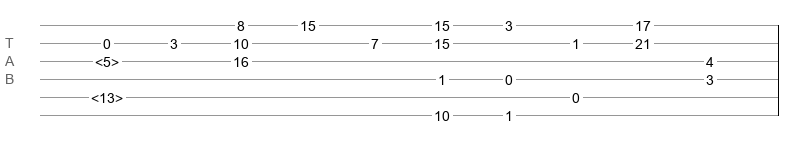0: (103, 36, 111, 46), (505, 72, 513, 82), (572, 90, 580, 100)
1: (438, 72, 446, 82), (505, 108, 513, 118), (572, 36, 580, 46)
10: (233, 36, 249, 46), (434, 108, 450, 118)
15: (300, 18, 316, 28), (434, 18, 450, 28), (434, 36, 450, 46)
16: (233, 54, 249, 64)
17: (635, 18, 651, 28)
21: (635, 36, 651, 46)
3: (170, 36, 178, 46), (505, 18, 513, 28), (706, 72, 714, 82)
4: (706, 54, 714, 64)
7: (371, 36, 379, 46)
8: (237, 18, 245, 28)
harmonic: (91, 90, 123, 100), (95, 54, 119, 64)
